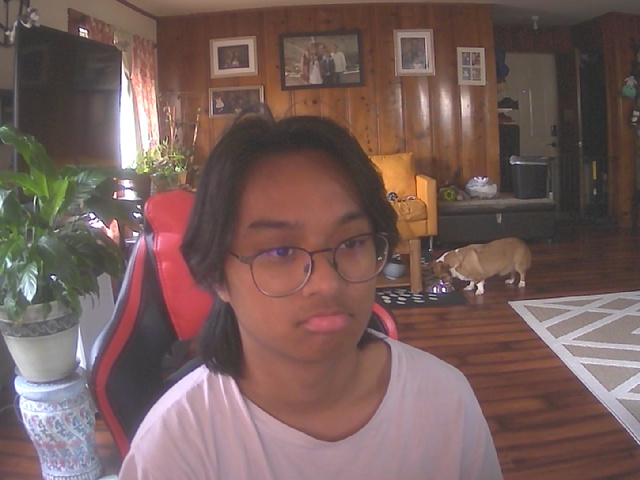sad: (205, 124, 399, 370)
